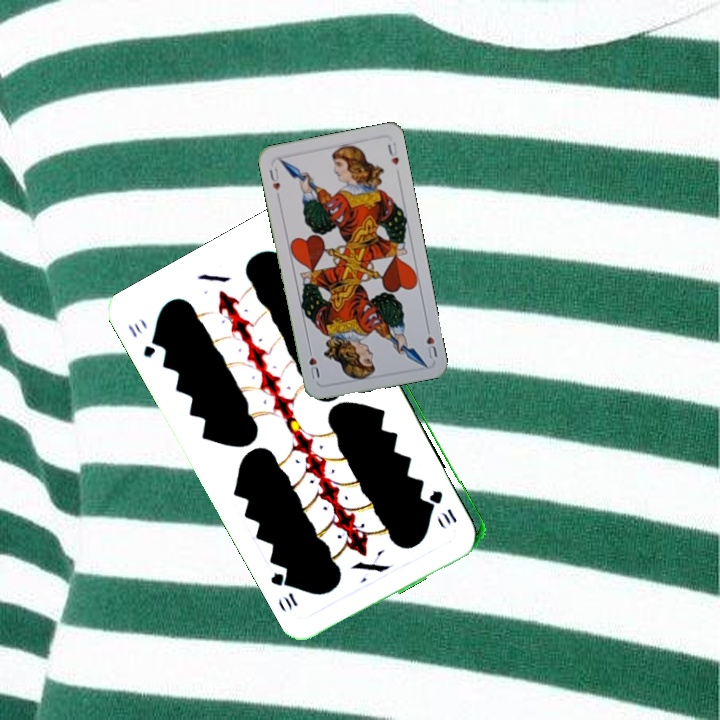G10: (124, 320, 163, 361), (428, 486, 460, 526)
HU: (422, 322, 440, 361), (265, 162, 282, 193)
